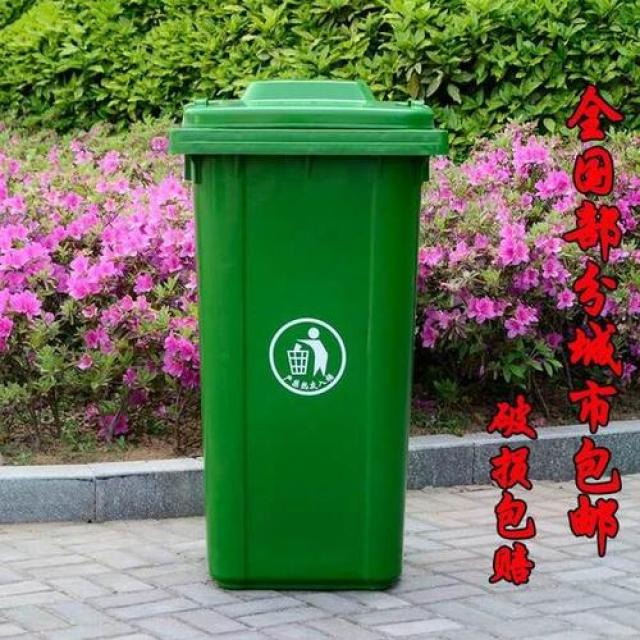garbage_bin: (170, 79, 446, 589)
